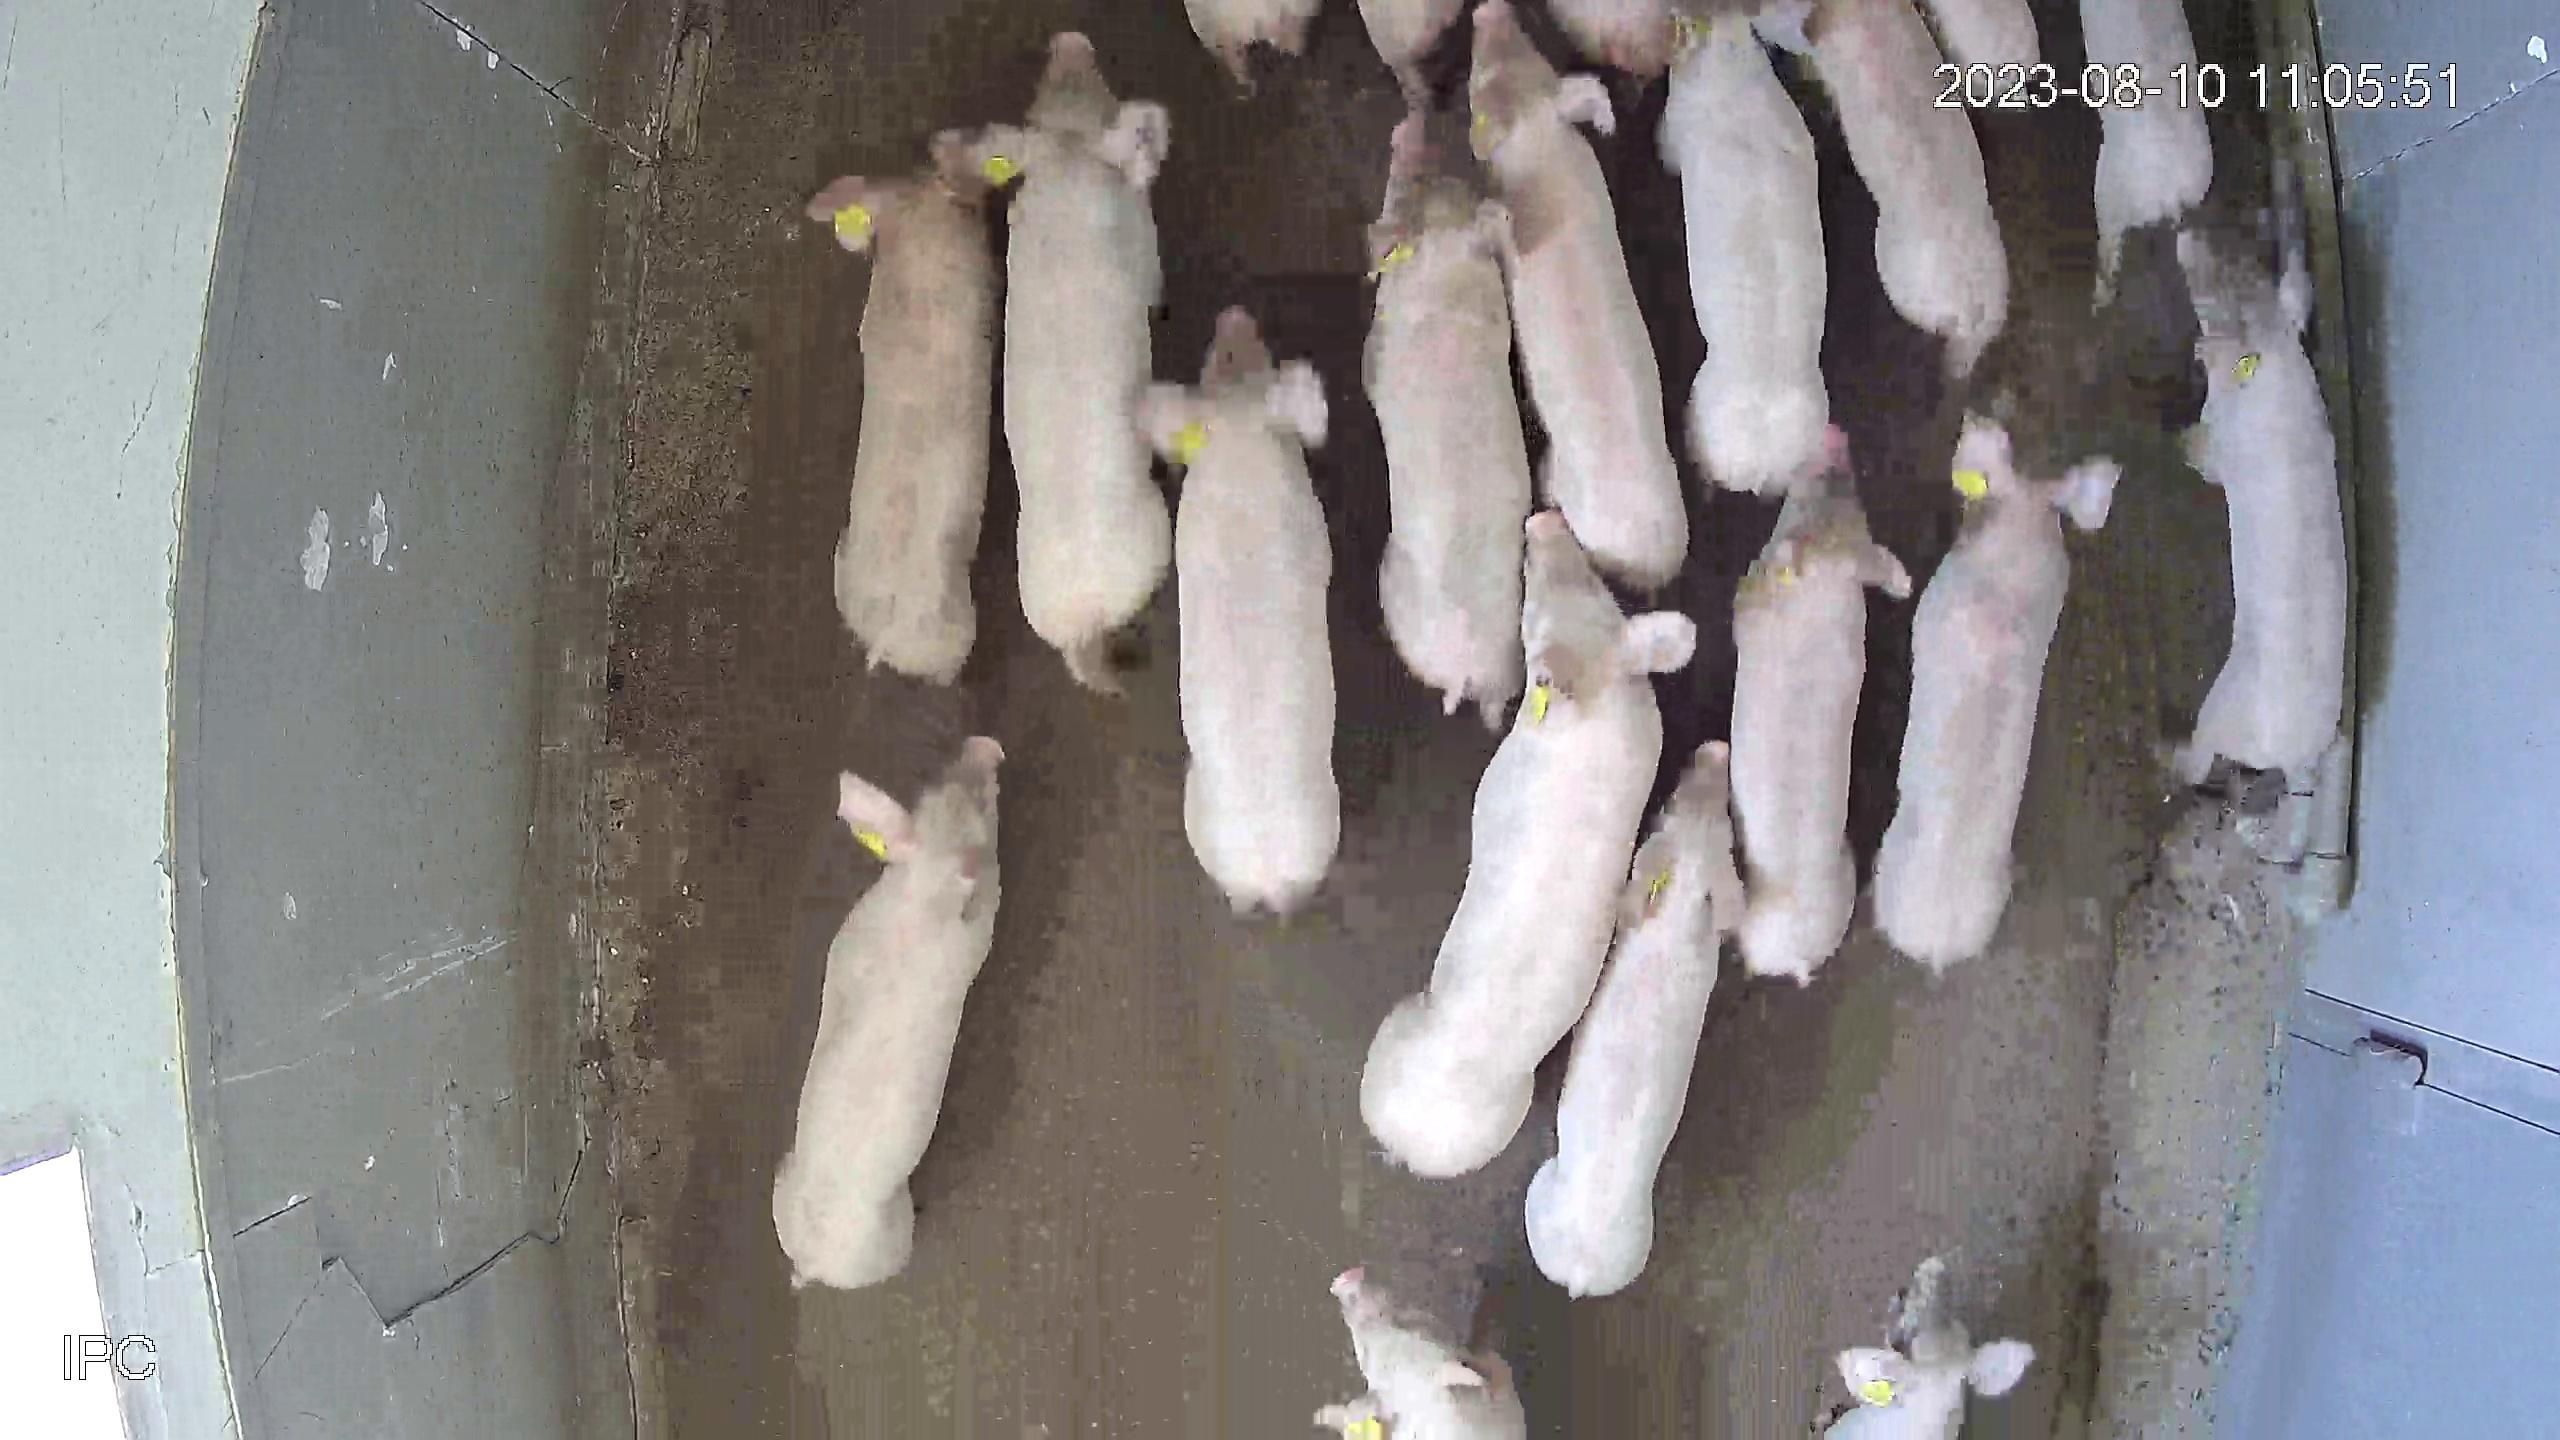Pig: (1361, 506, 1697, 1176), (932, 28, 1173, 691), (1878, 413, 2122, 969), (1472, 2, 1690, 587), (772, 737, 1002, 1287), (1139, 302, 1340, 911), (1528, 740, 1746, 1298), (1364, 105, 1531, 728), (1732, 424, 1915, 983), (807, 171, 993, 682), (2182, 227, 2353, 784), (1660, 0, 1830, 491), (1807, 0, 2011, 373), (2084, 0, 2217, 302), (1827, 1255, 2038, 1440), (1315, 1268, 1528, 1440), (1185, 0, 1320, 88), (1549, 0, 1674, 74), (1931, 0, 2045, 67), (1357, 0, 1465, 67)
